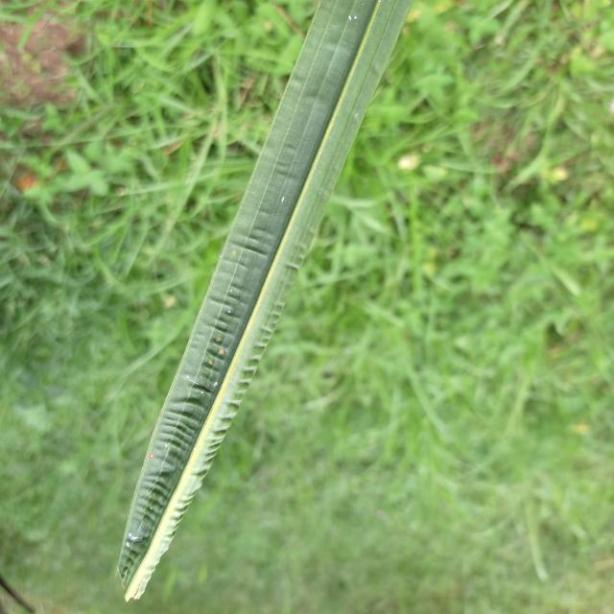Boron: (115, 0, 413, 614)
